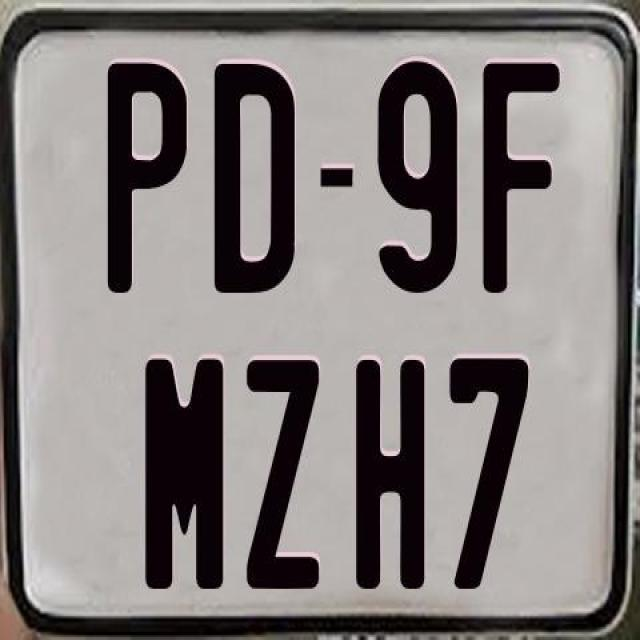7: (445, 357, 527, 596)
9: (373, 59, 460, 291)
D: (214, 59, 298, 298)
F: (481, 61, 564, 301)
H: (354, 356, 426, 588)
M: (142, 358, 222, 594)
P: (104, 62, 185, 298)
Z: (246, 358, 326, 597)
